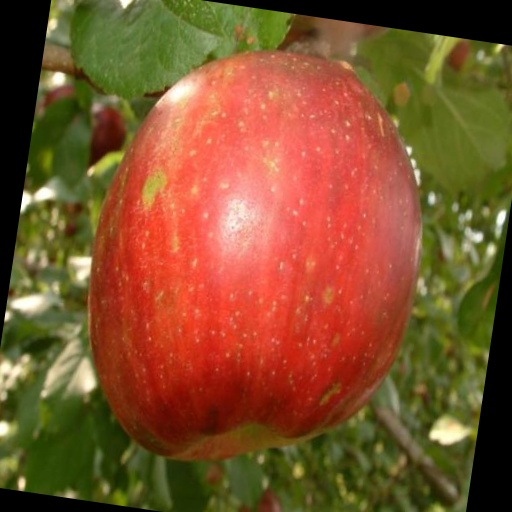fruit: (88, 51, 420, 459), (282, 14, 388, 53), (88, 107, 125, 165), (42, 84, 73, 108), (446, 40, 469, 71), (255, 490, 282, 512), (205, 463, 222, 486), (235, 507, 257, 512)
